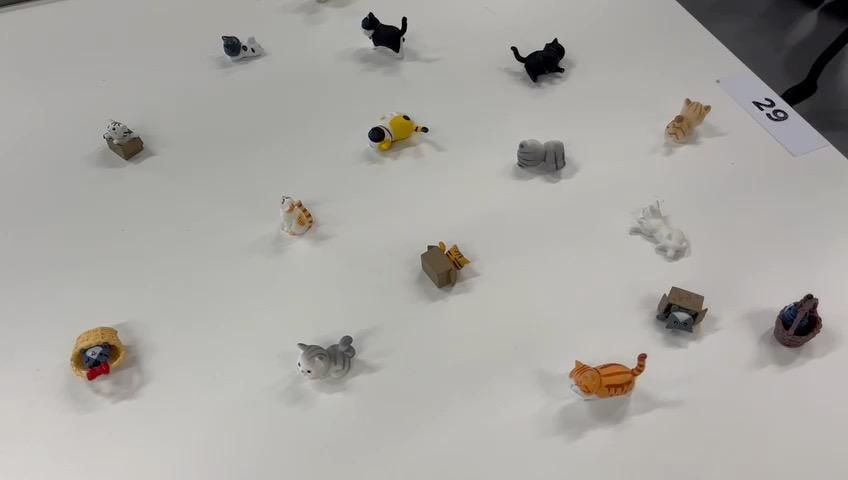pet: (268, 334, 404, 398), (551, 341, 675, 406), (483, 124, 590, 197), (351, 11, 446, 88), (668, 64, 736, 167), (356, 104, 433, 191), (253, 171, 331, 253), (764, 289, 842, 368), (401, 234, 484, 306), (98, 99, 173, 173), (496, 36, 572, 109), (63, 311, 134, 388), (653, 276, 711, 352), (201, 29, 284, 82), (626, 206, 698, 267)
